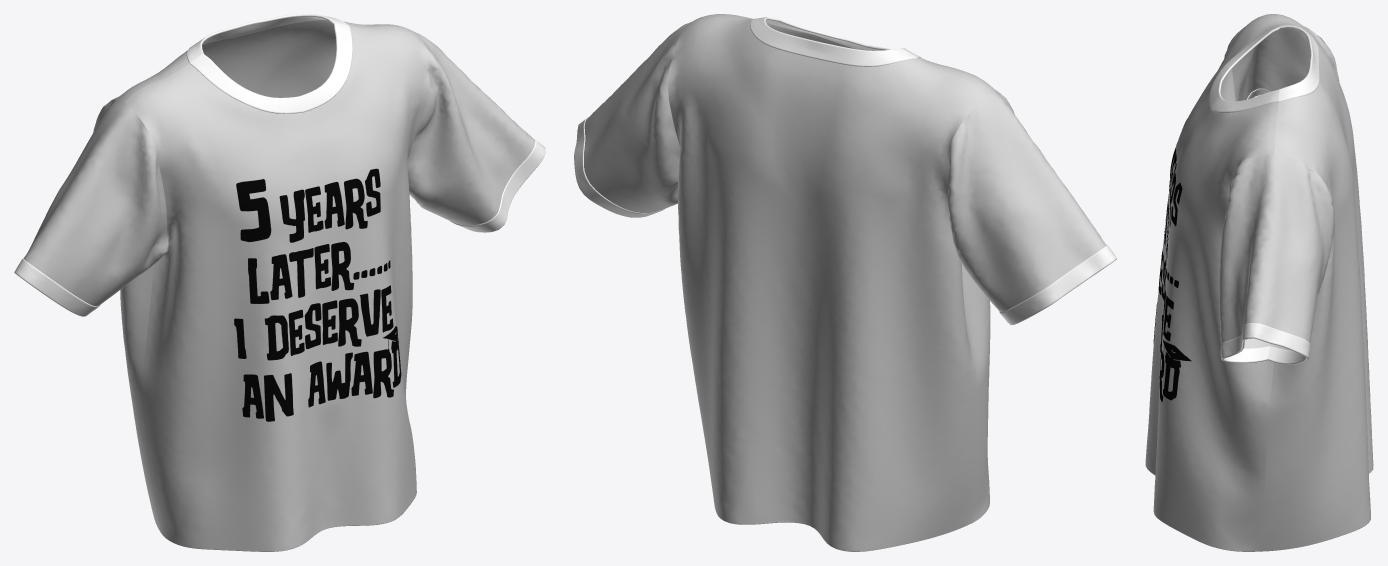
Rendered from years.glb.
3 renders of one model, left to right at view 1: azimuth 30°, elevation 25°; view 2: azimuth 150°, elevation 25°; view 3: azimuth 270°, elevation 25°, orthographic. The views are drawn at different scales.
Parts seen in each view (by area): view 1: 5 years; view 2: 5 years; view 3: 5 years.
Boxes of the visible parts, <box> form: 5 years: <box>14,14,545,551</box>; 5 years: <box>574,14,1116,551</box>; 5 years: <box>1145,14,1373,551</box>.
Bounding box in the file's own units: 1.57 × 1.32 × 0.6167.
Materials: 3 (1 with a texture image).
